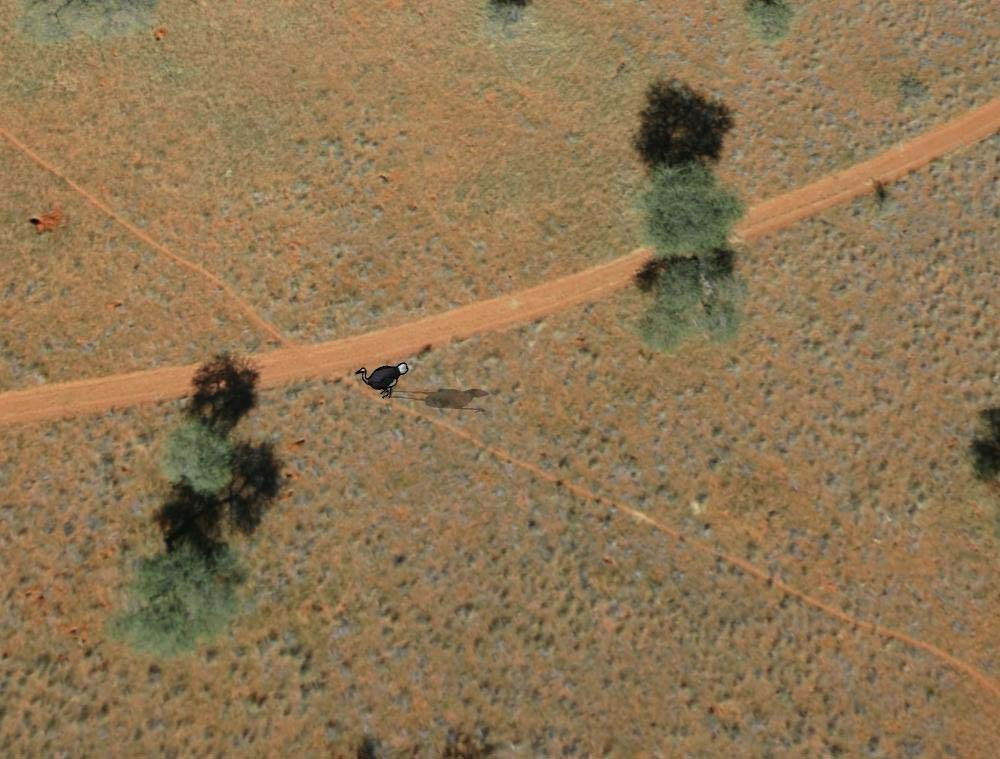springbok: (352, 357, 413, 404)
